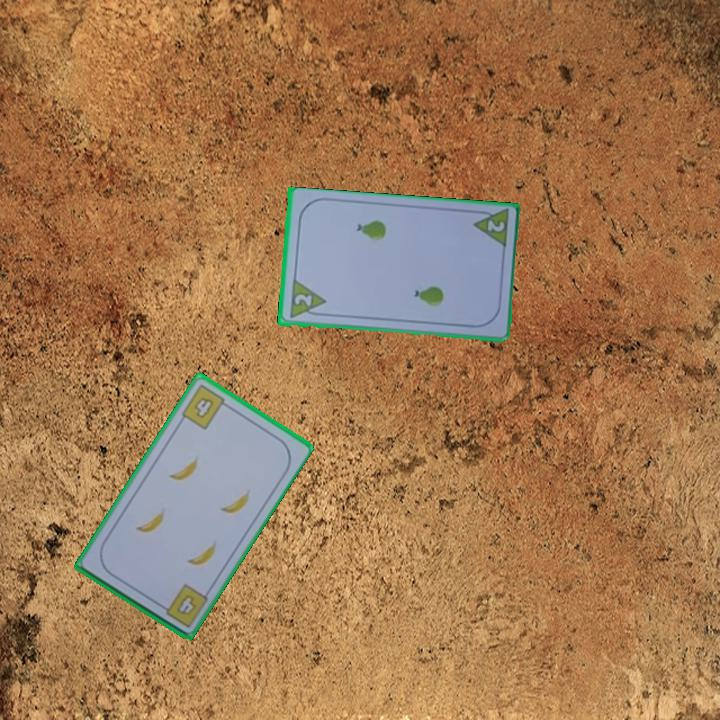2p: (290, 291, 315, 310), (483, 217, 507, 235)
4b: (178, 381, 233, 433), (156, 580, 211, 630)
